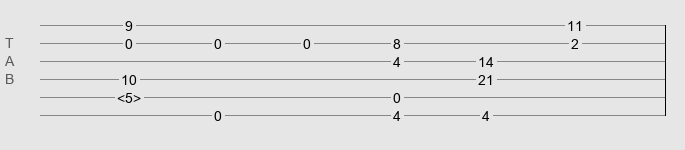0: (125, 36, 133, 46), (214, 108, 222, 118), (214, 36, 222, 46), (303, 36, 311, 46), (393, 90, 401, 100)
10: (121, 72, 137, 82)
11: (567, 18, 583, 28)
14: (478, 54, 494, 64)
2: (571, 36, 579, 46)
21: (478, 72, 494, 82)
4: (393, 54, 401, 64), (393, 108, 401, 118), (482, 108, 490, 118)
8: (393, 36, 401, 46)
9: (125, 18, 133, 28)
harmonic: (117, 90, 141, 100)
